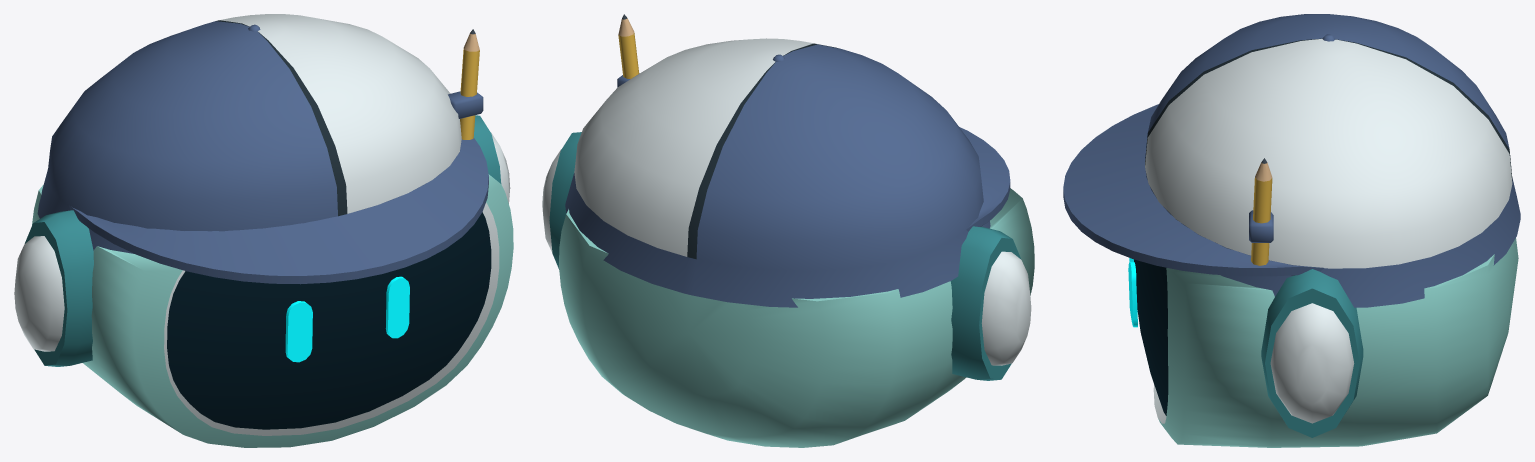
Rendered from copilot_analyst_v01.glb.
3 views of the same model, side by side, from view 1: azimuth 30°, elevation 25°; view 2: azimuth 150°, elevation 25°; view 3: azimuth 270°, elevation 25° (orthographic). The views are drawn at different scales.
Visible parts, largest first — view 1: analyst_model; view 2: analyst_model; view 3: analyst_model.
Boxes of the visible parts, x1,y1,x2,y2 form: analyst_model: [14, 14, 513, 447]; analyst_model: [542, 14, 1034, 447]; analyst_model: [1063, 14, 1520, 447].
Size of the model in its own units: 2.82 by 2.02 by 2.24.
2 materials, 2 textured.
